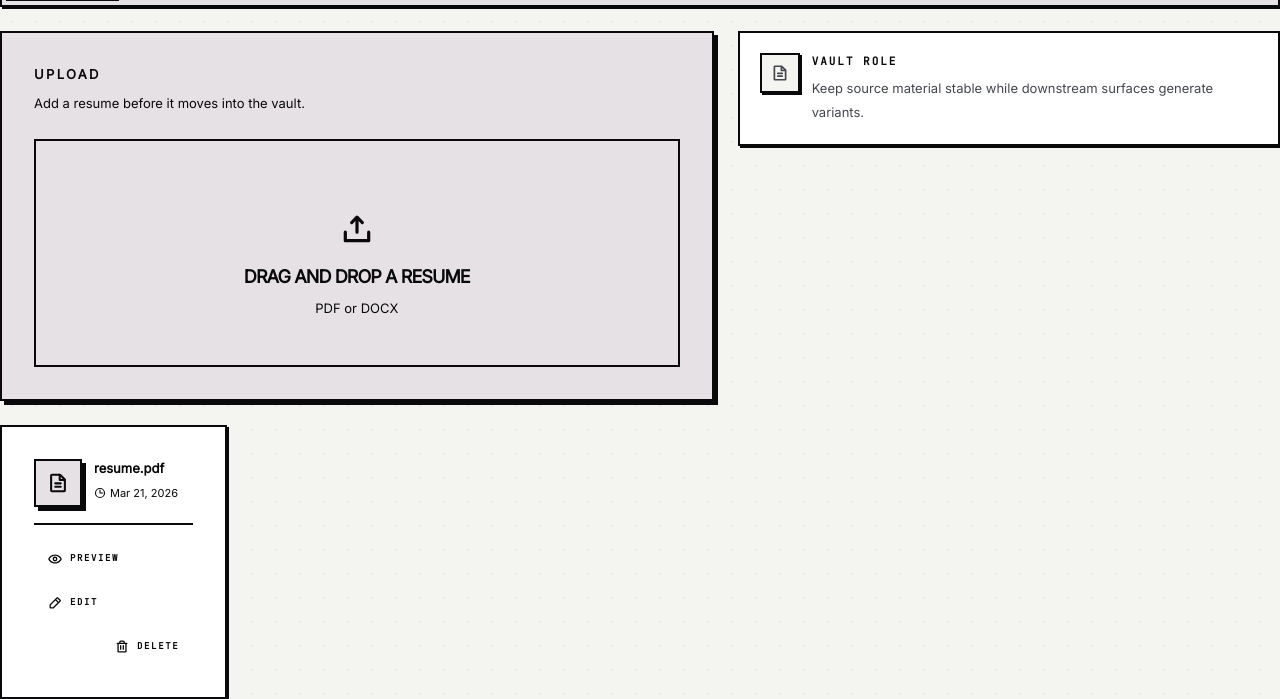
Test: DocumentVault › shows a preview fallback when parsed text is unavailable
(page scrolled)
Check: the text "resume.pdf" is shown, box [94,460,164,476]
Click the button "Preview": {"x": 84, "y": 559} [34,541,133,577]
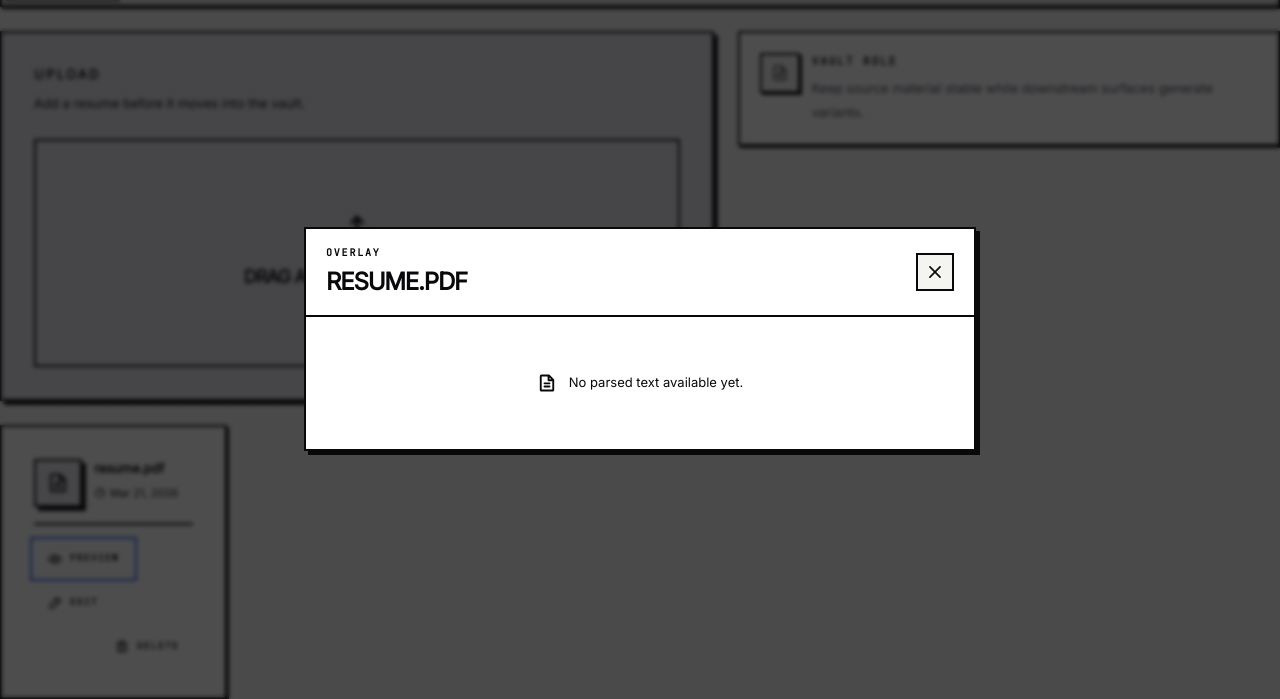
Check: the text "No parsed text available yet." is shown, box [569,373,743,392]
